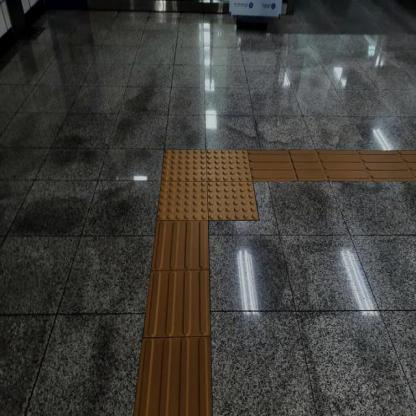podotacti: (136, 126, 274, 258), (134, 225, 212, 415), (253, 150, 415, 182)
